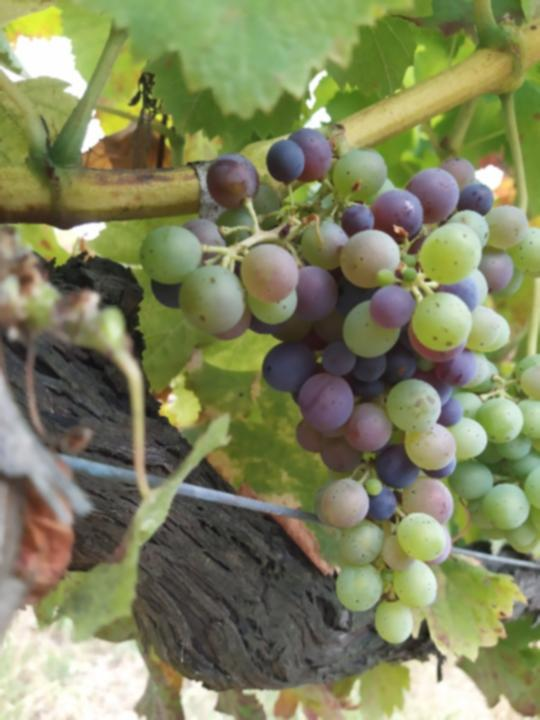grape: (138, 120, 540, 646)
